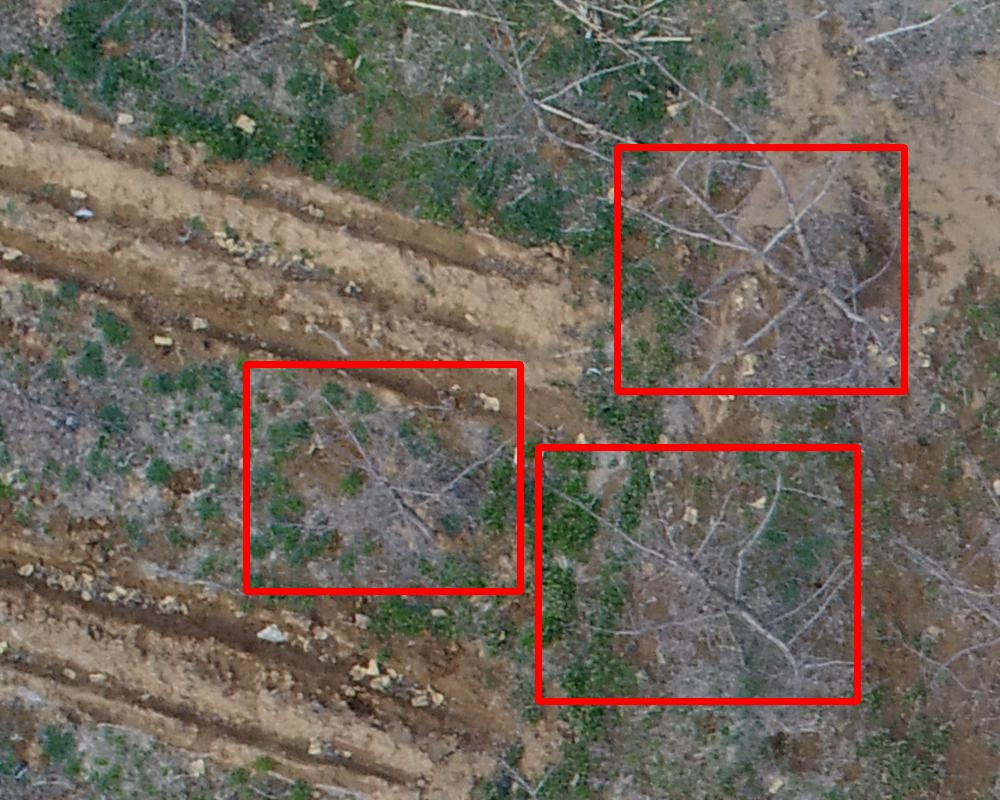apple: (538, 447, 857, 701), (617, 147, 904, 391), (246, 364, 520, 591)
